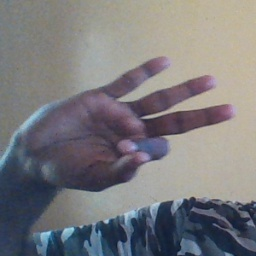K: (18, 55, 238, 193)
